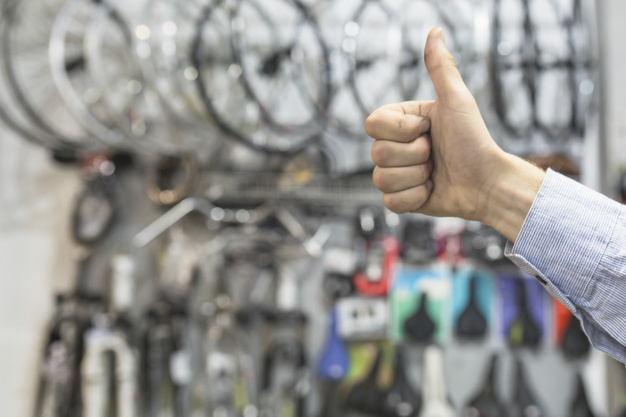thumbsup: (364, 26, 460, 215)
